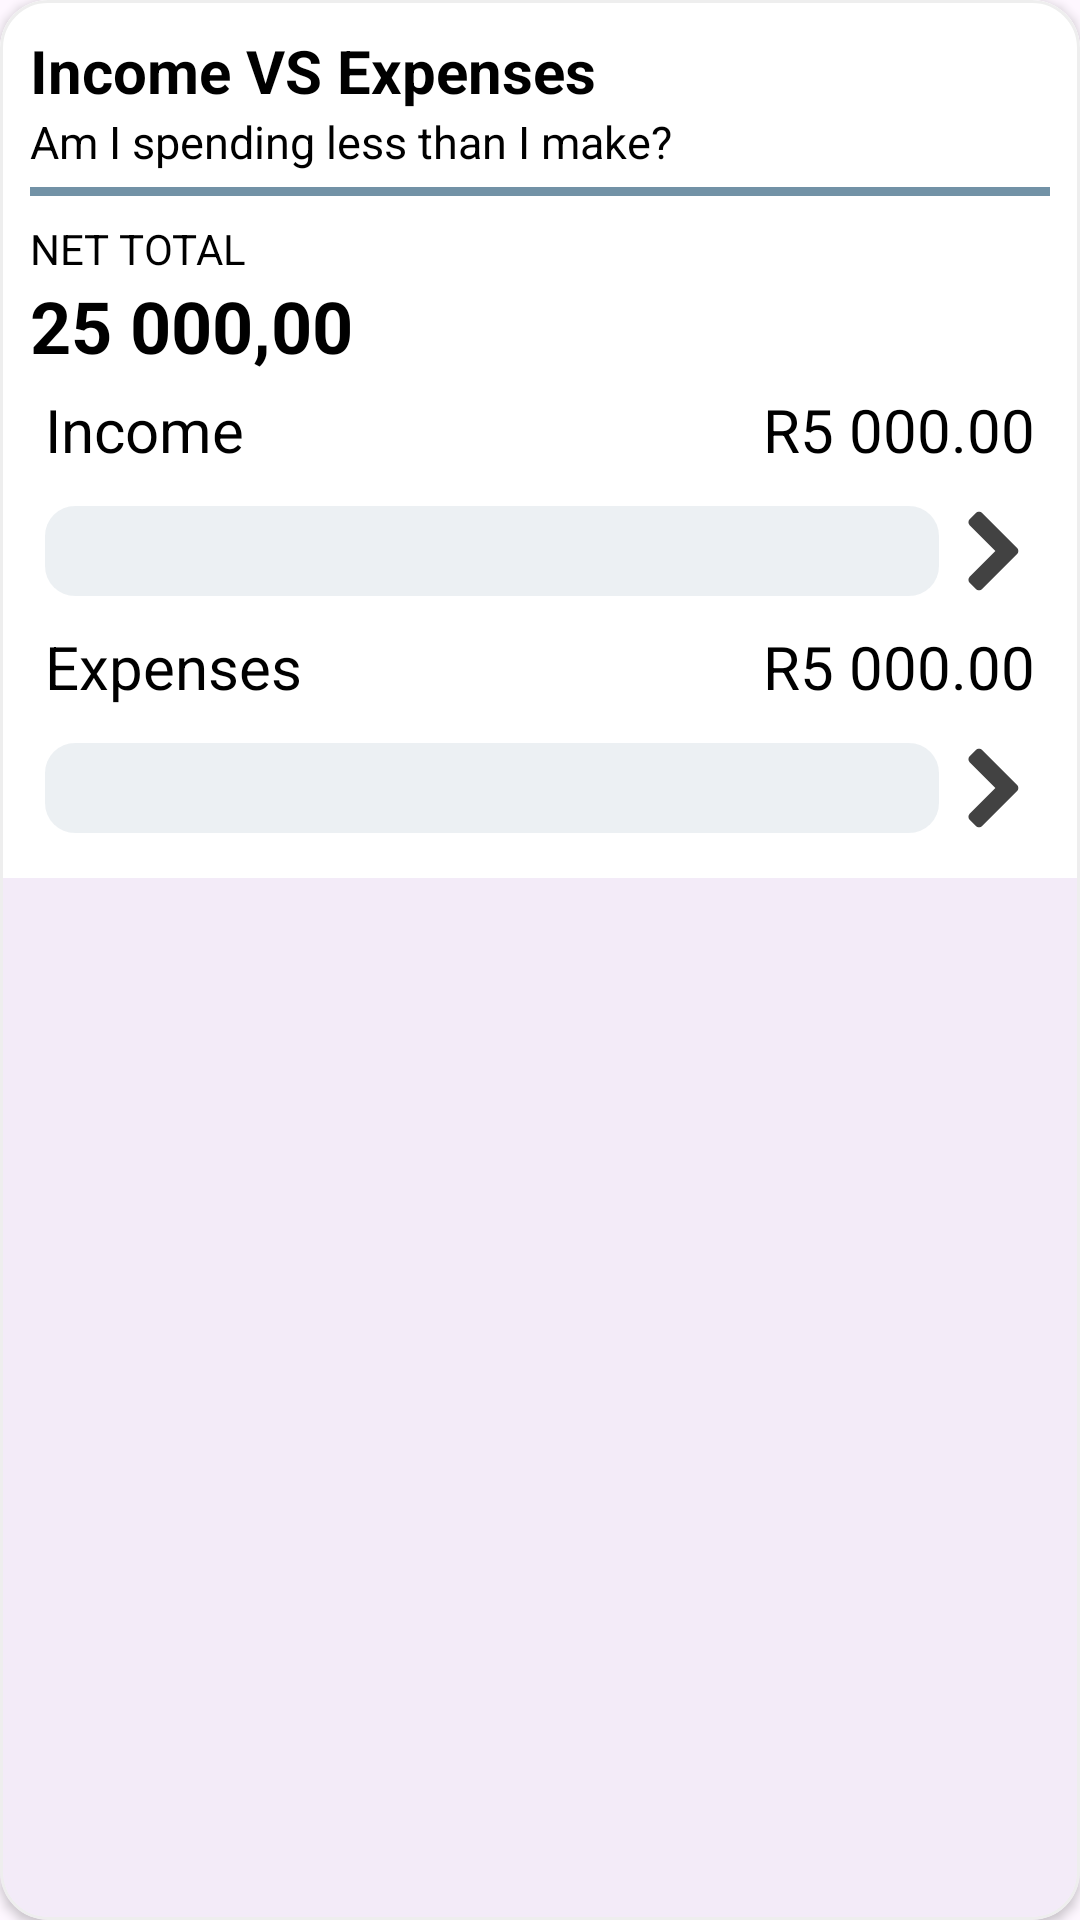

Where to tap for icons on this 1080*1920 app screen, as [x,y]:
Open expense details: [993,788]
Open income transactions: [993,551]
